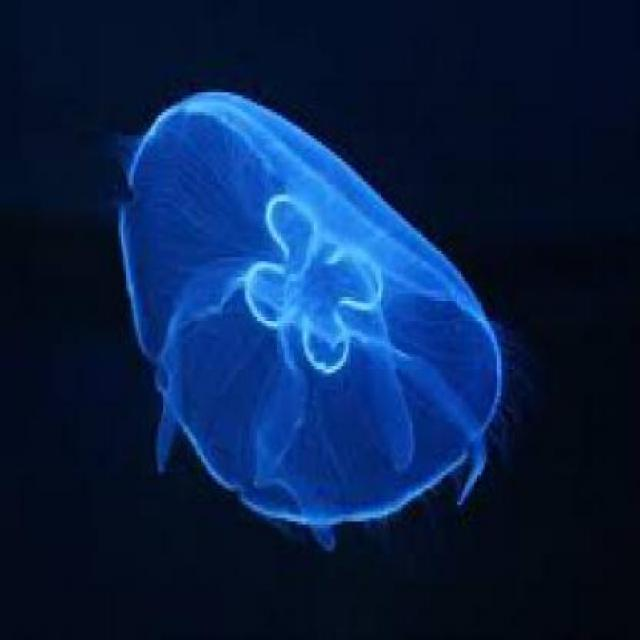Jellyfish: (110, 86, 522, 554)
